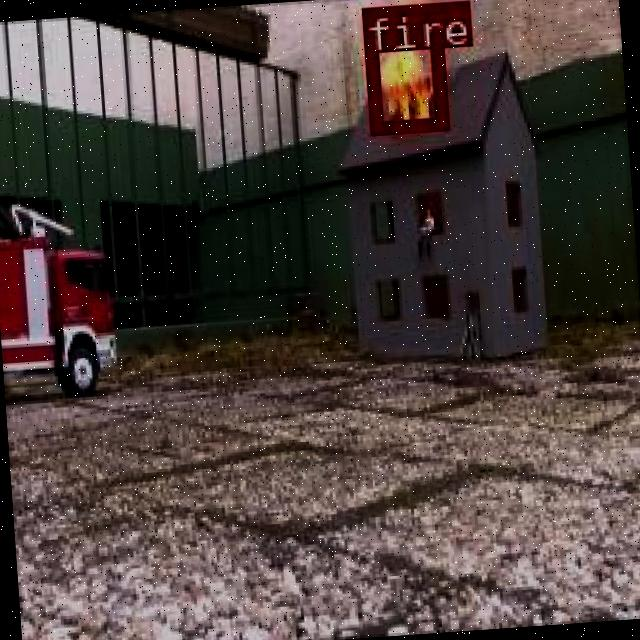fire: (358, 0, 445, 132)
